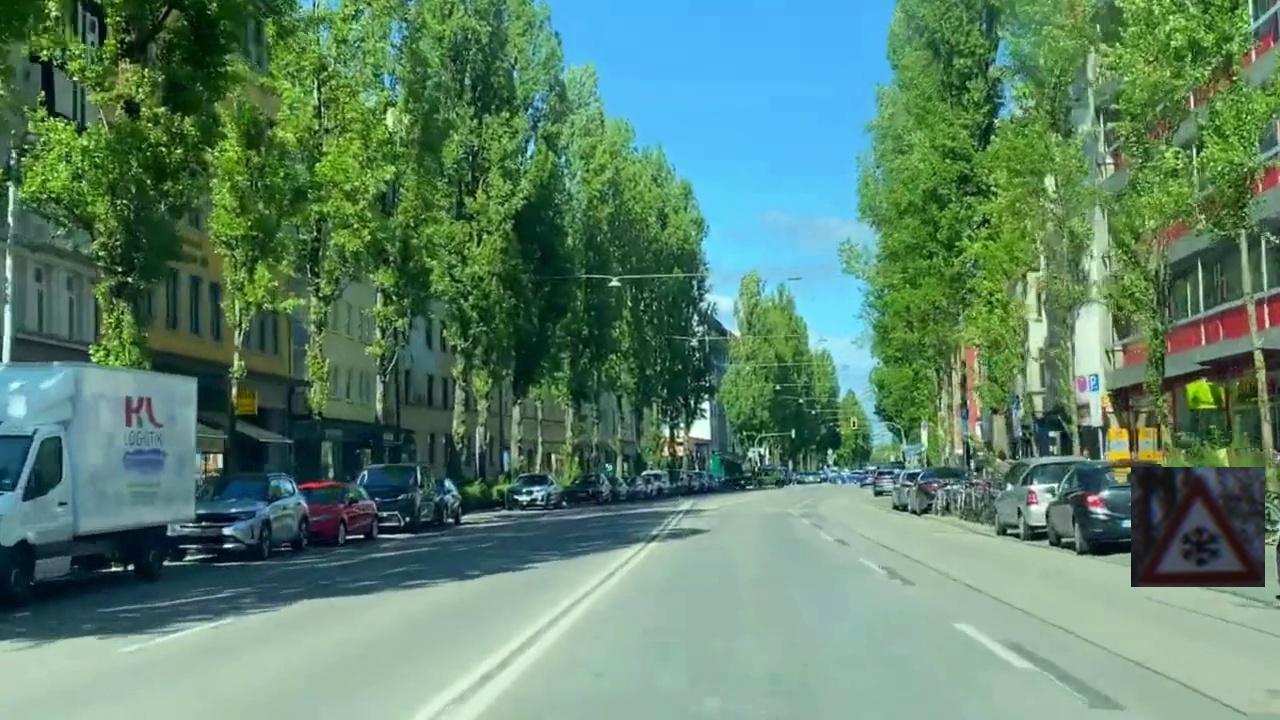Ice/snow: (1131, 467, 1265, 587)
